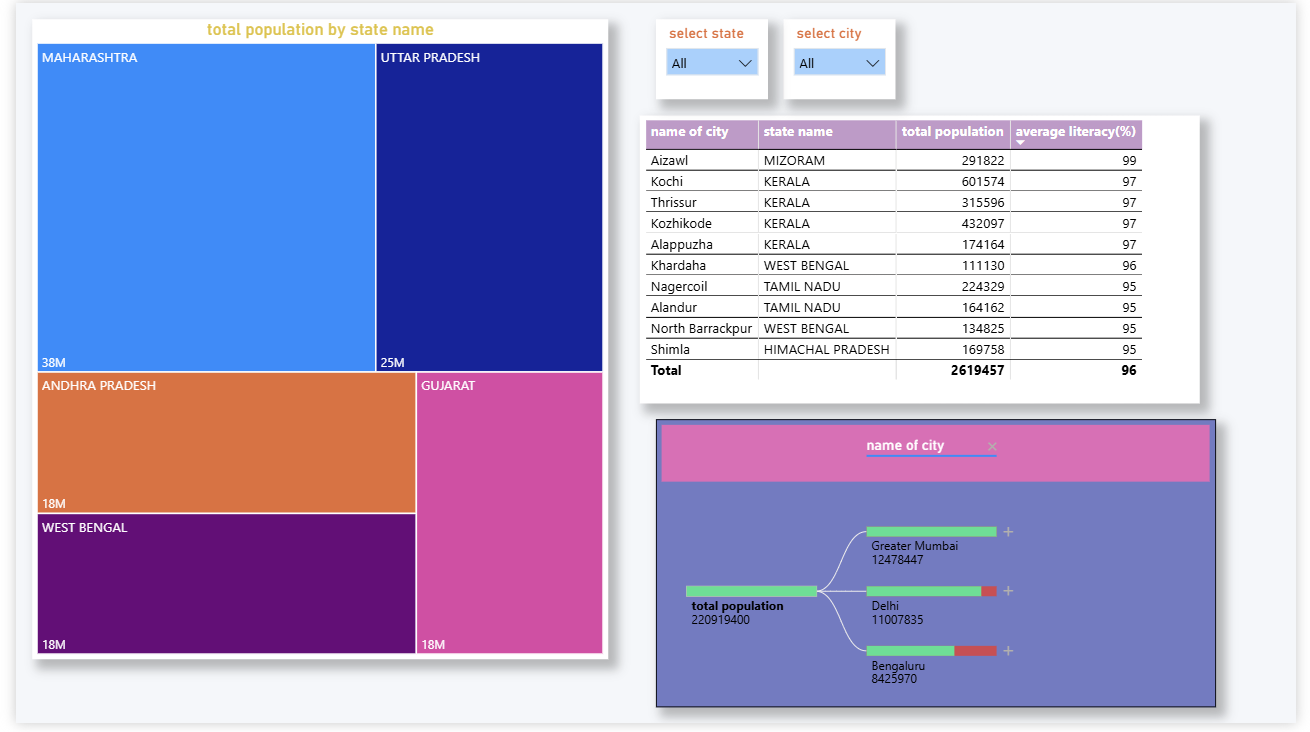

This screenshot's page, from the dashboard's own definition file:
{"tool":"powerbi","page":{"name":"Page 3","canvas":[1280,720],"ordinal":2},"visuals":[{"type":"treemap","fields":{"Values":["cities_r2.total population"],"Group":["cities_r2.state name"]},"box":[16,16,576,640],"z":0},{"type":"tableEx","fields":{"Values":["cities_r2.name of city","cities_r2.state name","cities_r2.total population","cities_r2.average literacy(%)"]},"box":[624,112,560,288],"z":1000},{"type":"decompositionTreeVisual","fields":{"Analyze":["cities_r2.total population"],"ExplainBy":["cities_r2.state name","cities_r2.name of city","cities_r2.literacy rate (%)"]},"box":[640,416,560,288],"z":2000},{"type":"slicer","fields":{"Values":["cities_r2.name of city"]},"box":[768,16,112,80],"z":3000},{"type":"slicer","fields":{"Values":["cities_r2.state name"]},"box":[640,16,112,80],"z":4000}]}

Visuals, with their boxes in screenshot pixels (x1, y1, x2, y2), scaled from the page's 1280x720 canvas onto the 1310x732 screenshot:
treemap - cities_r2.total population x cities_r2.state name: region(16, 16, 606, 667)
tableEx - cities_r2.name of city x cities_r2.state name: region(639, 114, 1212, 407)
decompositionTreeVisual - cities_r2.total population x cities_r2.state name: region(655, 423, 1228, 716)
slicer - cities_r2.name of city: region(786, 16, 901, 98)
slicer - cities_r2.state name: region(655, 16, 770, 98)
